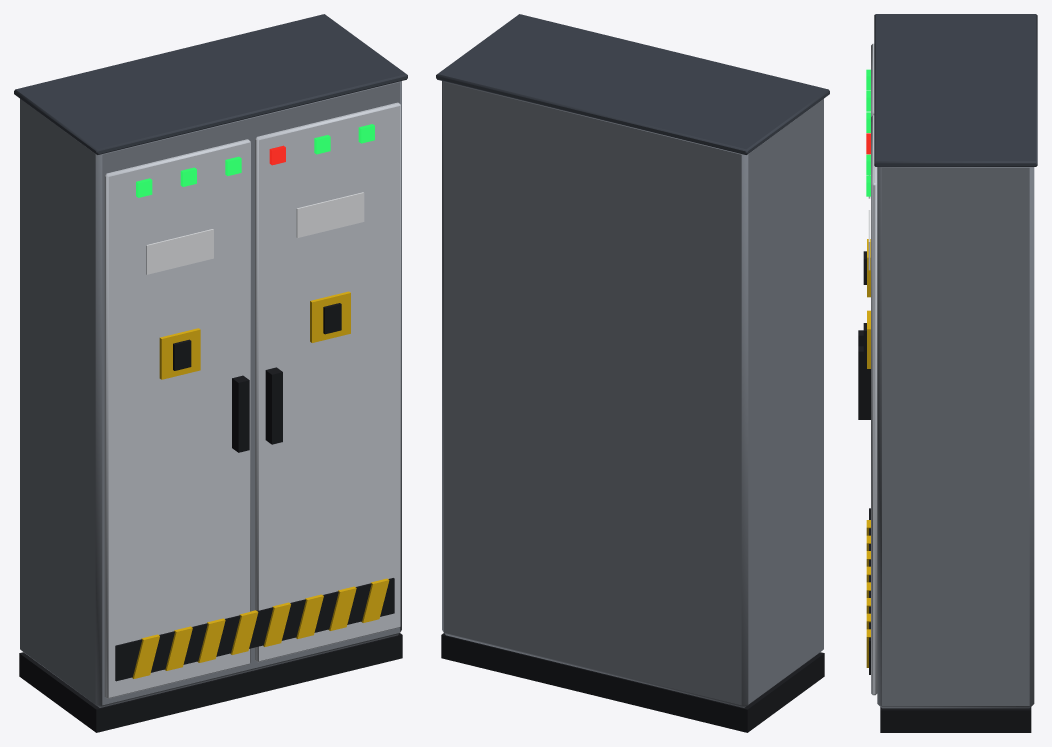
The model's file is generator_power_distribution_cabinet.glb.
The picture shows the model from 3 angles, left to right: view 1: azimuth 30°, elevation 25°; view 2: azimuth 150°, elevation 25°; view 3: azimuth 270°, elevation 25°; orthographic projection. The views are drawn at different scales.
Parts seen in each view (by area): view 1: generator_power_distribution_cabinet; view 2: generator_power_distribution_cabinet; view 3: generator_power_distribution_cabinet.
Part boxes in pixels (<box>): generator_power_distribution_cabinet: <box>14,14,407,732</box>; generator_power_distribution_cabinet: <box>436,14,829,732</box>; generator_power_distribution_cabinet: <box>858,14,1037,732</box>.
Size of the model in its own units: 1.12 by 2.01 by 0.57.
